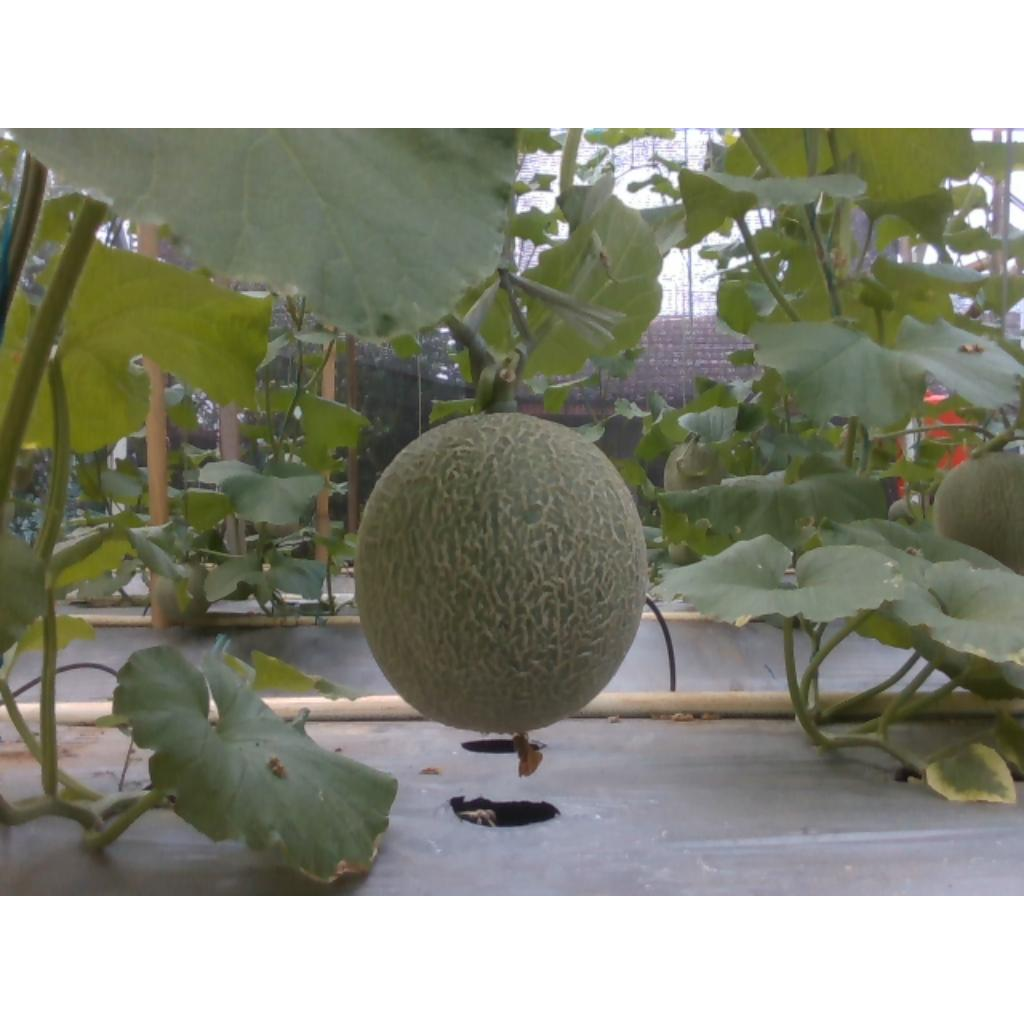melon: (357, 414, 646, 734)
